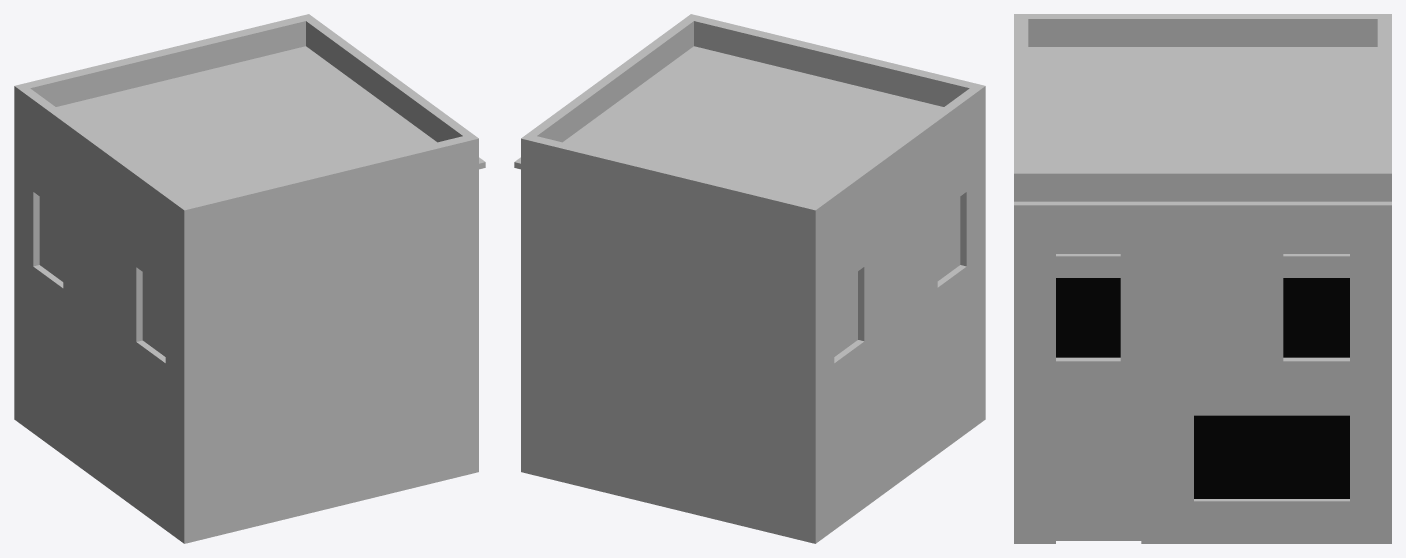
File: _uilding5.fbx
3 renders of one model, left to right at view 1: azimuth 30°, elevation 25°; view 2: azimuth 150°, elevation 25°; view 3: azimuth 270°, elevation 25°, orthographic. The views are drawn at different scales.
Visible parts, largest first — view 1: BrickBuilding5; view 2: BrickBuilding5; view 3: BrickBuilding5.
Part boxes in pixels (box(x1,y1,x2,y2)): BrickBuilding5: box(14, 14, 485, 543); BrickBuilding5: box(514, 14, 985, 543); BrickBuilding5: box(1014, 14, 1391, 543).
Size of the model in its own units: 639 by 676 by 625.
